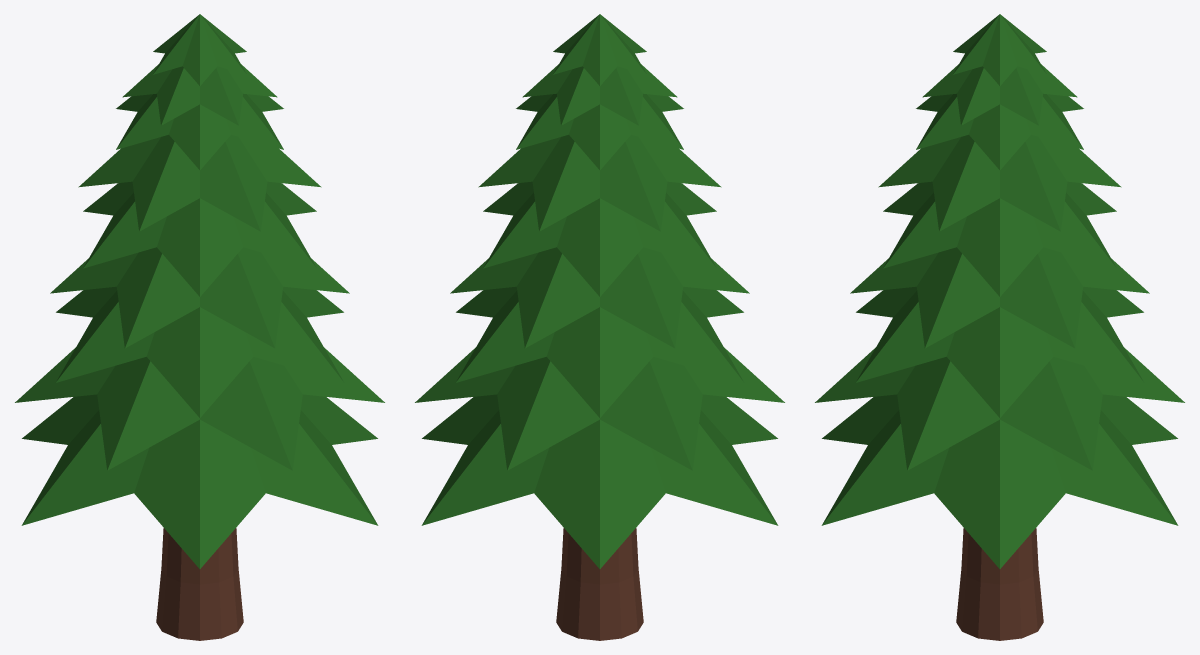
File: Pine Tree.fbx
3 renders of one model, left to right at view 1: azimuth 30°, elevation 25°; view 2: azimuth 150°, elevation 25°; view 3: azimuth 270°, elevation 25°, orthographic.
Visible parts, largest first — view 1: Pine Tree, Pine Tree Broken.004, Pine Tree Broken.006, Pine Tree Broken.007; view 2: Pine Tree, Pine Tree Broken.004, Pine Tree Broken.006; view 3: Pine Tree, Pine Tree Broken.004, Pine Tree Broken.006, Pine Tree Broken.007.
Boxes of the visible parts, bbox=[...] form: Pine Tree: bbox=[15, 14, 384, 640]; Pine Tree Broken.004: bbox=[200, 546, 242, 625]; Pine Tree Broken.006: bbox=[157, 594, 243, 640]; Pine Tree Broken.007: bbox=[203, 528, 237, 579]; Pine Tree: bbox=[415, 14, 784, 640]; Pine Tree Broken.004: bbox=[558, 528, 599, 601]; Pine Tree Broken.006: bbox=[556, 598, 643, 638]; Pine Tree: bbox=[815, 14, 1184, 640]; Pine Tree Broken.004: bbox=[959, 528, 1040, 626]; Pine Tree Broken.006: bbox=[959, 594, 1043, 640]; Pine Tree Broken.007: bbox=[961, 528, 986, 565].
Bounding box in the file's own units: 1600 × 2606 × 1440.
